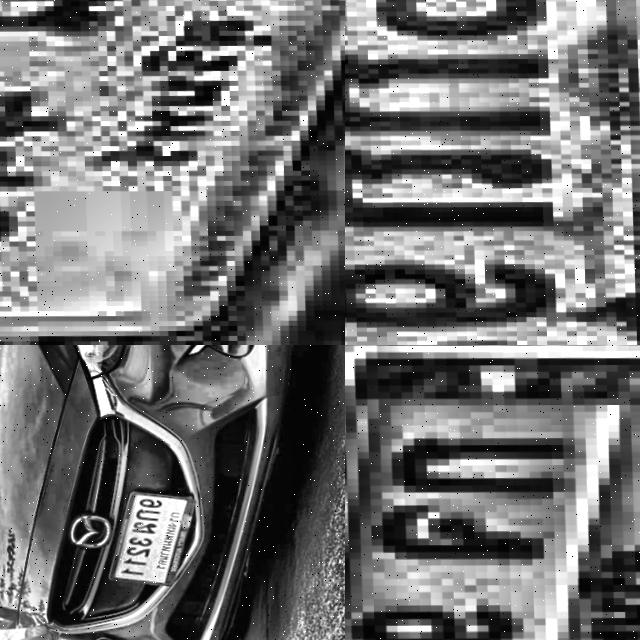license-plate: (0, 0, 345, 345), (345, 0, 640, 345), (345, 345, 640, 640), (102, 485, 197, 589)
